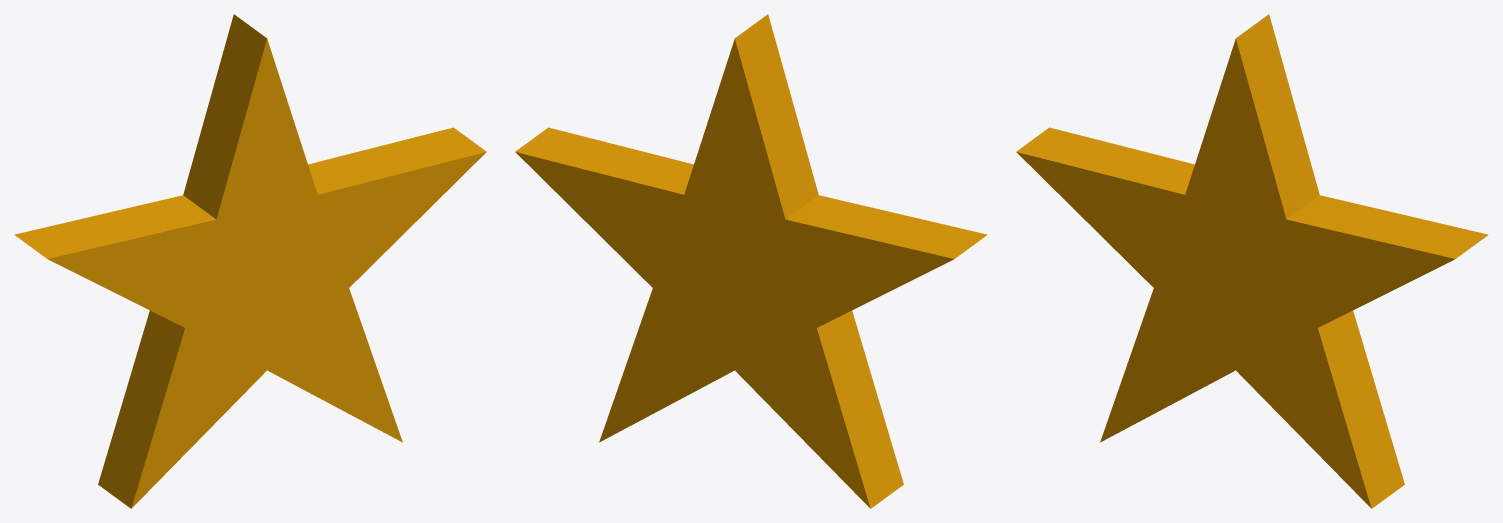
The model's file is Star.glb.
3 views of the same model, side by side, from view 1: azimuth 30°, elevation 25°; view 2: azimuth 150°, elevation 25°; view 3: azimuth 330°, elevation 25° (orthographic).
Visible parts, largest first — view 1: Cylinder.022; view 2: Cylinder.022; view 3: Cylinder.022.
Part boxes in pixels (x1,y1,x2,y2): Cylinder.022: [14, 14, 486, 508]; Cylinder.022: [515, 14, 987, 508]; Cylinder.022: [1016, 14, 1488, 508].
Size of the model in its own units: 0.8369 by 0.796 by 0.1099.
